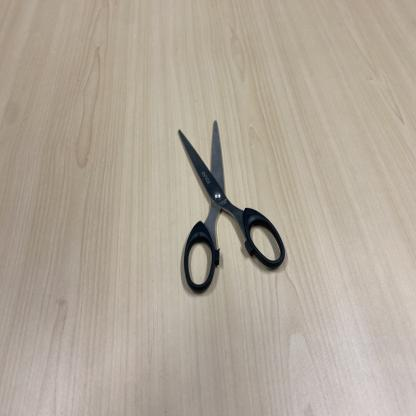scissors: (173, 117, 286, 300)
